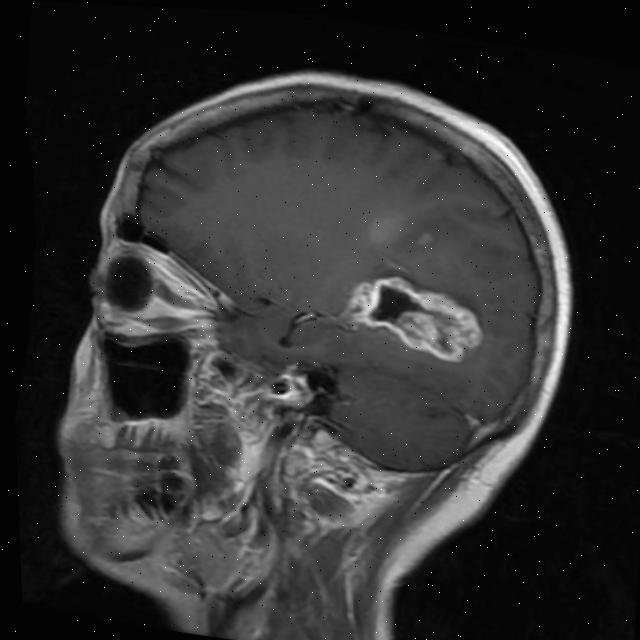Glioma: (334, 265, 490, 367)
